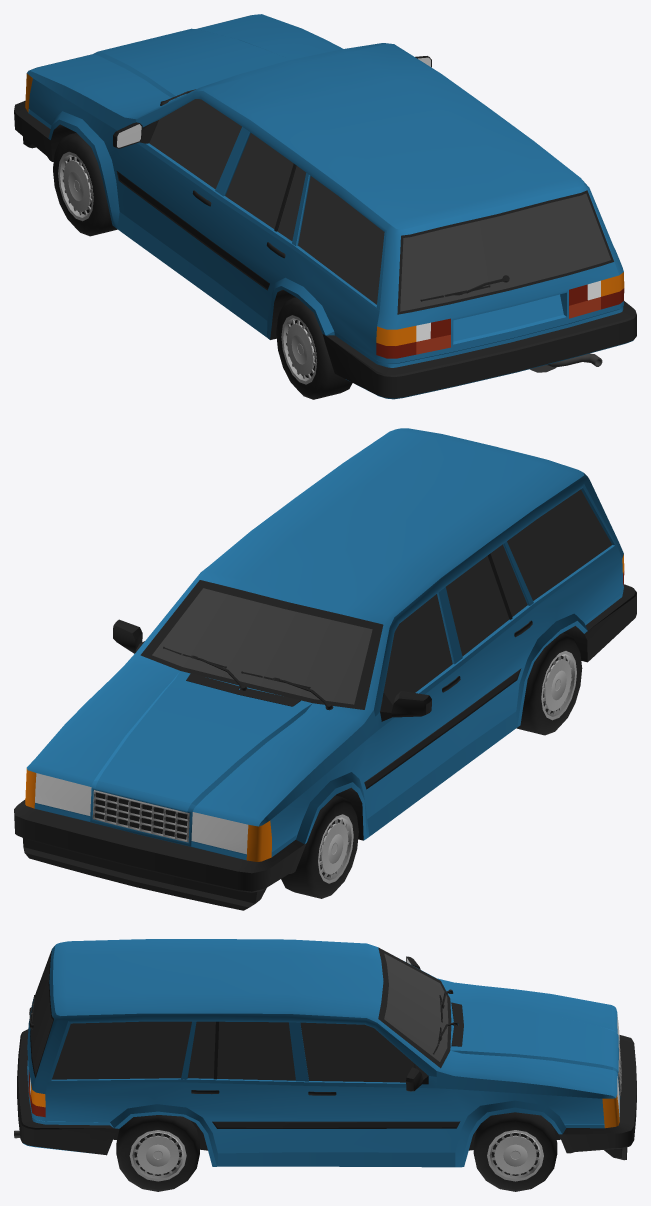
File: m8_wagon_blue.glb
3 views of the same model, one above another, from view 1: azimuth 30°, elevation 25°; view 2: azimuth 150°, elevation 25°; view 3: azimuth 270°, elevation 25° (orthographic). The views are drawn at different scales.
Visible parts, largest first — view 1: Body, Wheel_RL, Wheel_FL, Interior; view 2: Body, Wheel_FL, Wheel_RL; view 3: Body, Wheel_FR, Wheel_RR, Interior.
Part boxes in pixels (x1,y1,x2,y2): Body: (14, 14, 636, 399); Wheel_RL: (276, 297, 352, 399); Wheel_FL: (53, 133, 117, 236); Interior: (160, 89, 602, 372); Body: (14, 428, 636, 910); Wheel_FL: (281, 795, 358, 898); Wheel_RL: (516, 633, 582, 735); Body: (17, 939, 636, 1167); Wheel_FR: (473, 1112, 557, 1191); Wheel_RR: (116, 1115, 199, 1191); Interior: (14, 989, 457, 1138).
Size of the model in its own units: 2.13 by 1.36 by 4.54.
1 material, 1 textured.
